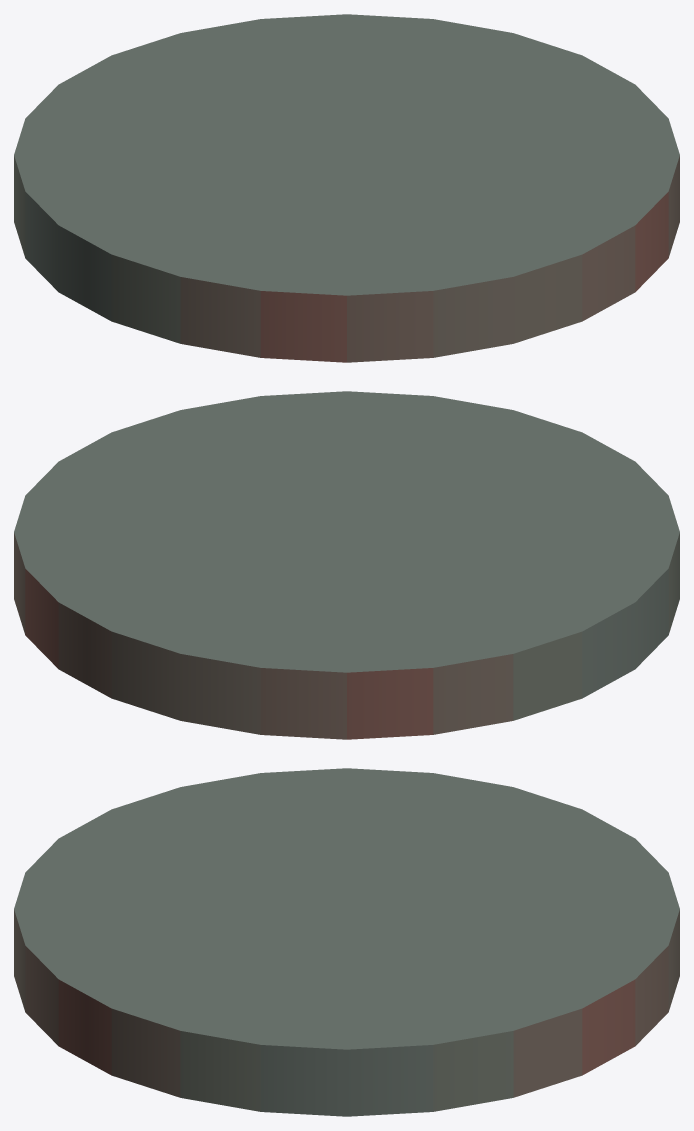
The model's file is Floor_hole_round_cover_hidden.fbx.
3 renders of one model, top to bottom at view 1: azimuth 30°, elevation 25°; view 2: azimuth 150°, elevation 25°; view 3: azimuth 270°, elevation 25°, orthographic.
Visible parts, largest first — view 1: Mesh; view 2: Mesh; view 3: Mesh.
Part boxes in pixels (x1,y1,x2,y2): Mesh: (14,14,679,362); Mesh: (14,391,679,739); Mesh: (14,768,679,1116).
Bounding box in the file's own units: 90 × 10 × 90.
